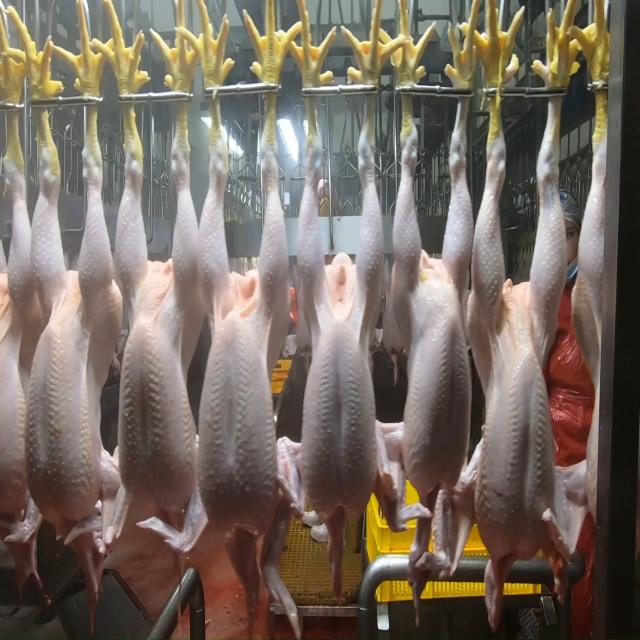chicken: (470, 124, 573, 547), (190, 102, 286, 543), (110, 103, 195, 543), (25, 107, 112, 530), (294, 169, 394, 513), (388, 116, 475, 500)
